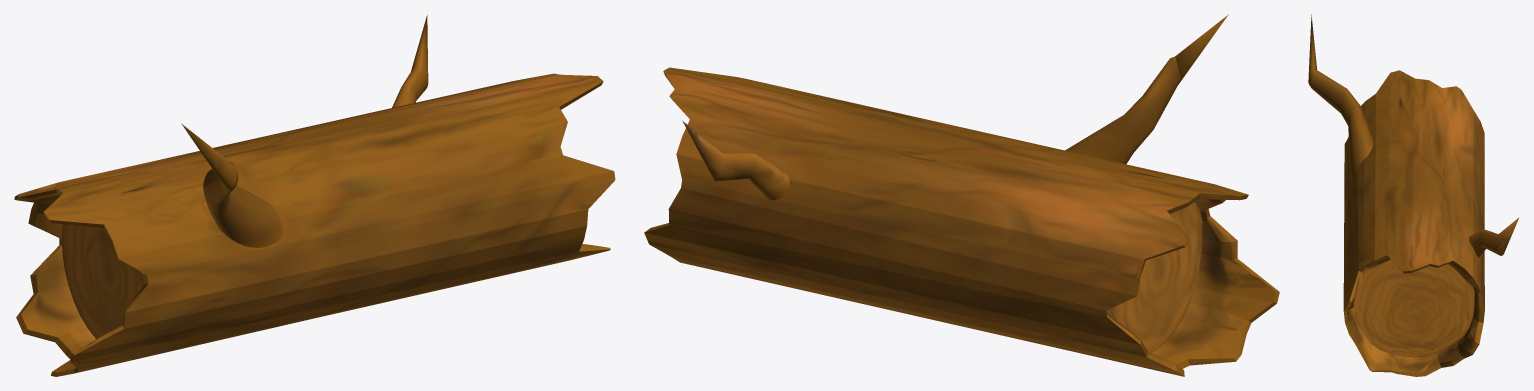
File: log.fbx
The picture shows the model from 3 angles, left to right: view 1: azimuth 30°, elevation 25°; view 2: azimuth 150°, elevation 25°; view 3: azimuth 270°, elevation 25°; orthographic projection. The views are drawn at different scales.
Visible parts, largest first — view 1: Cylinder; view 2: Cylinder; view 3: Cylinder.
Part boxes in pixels (x1,y1,x2,y2): Cylinder: (14, 15, 615, 376); Cylinder: (644, 14, 1279, 376); Cylinder: (1308, 14, 1519, 376).
Size of the model in its own units: 331 by 163 by 150.
1 material, 1 textured.
